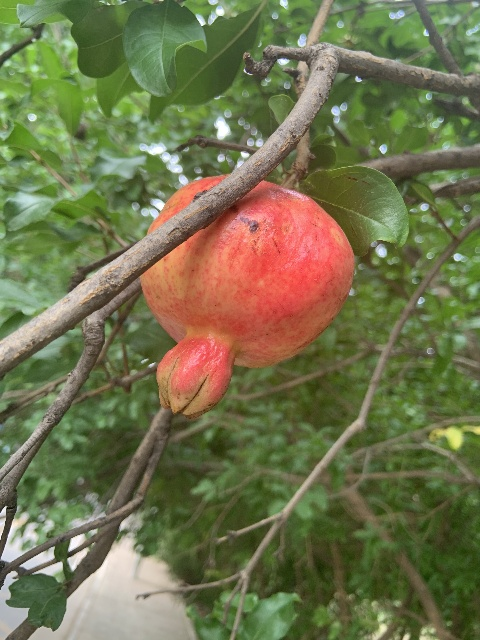ripe: (138, 176, 354, 415)
